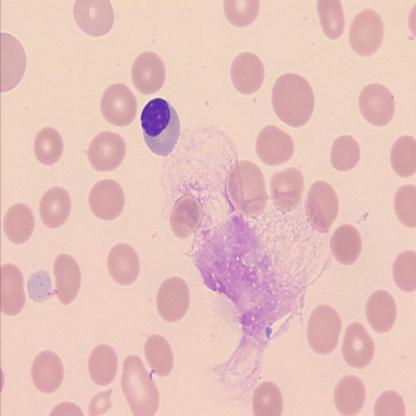NRC: (140, 96, 182, 158)
